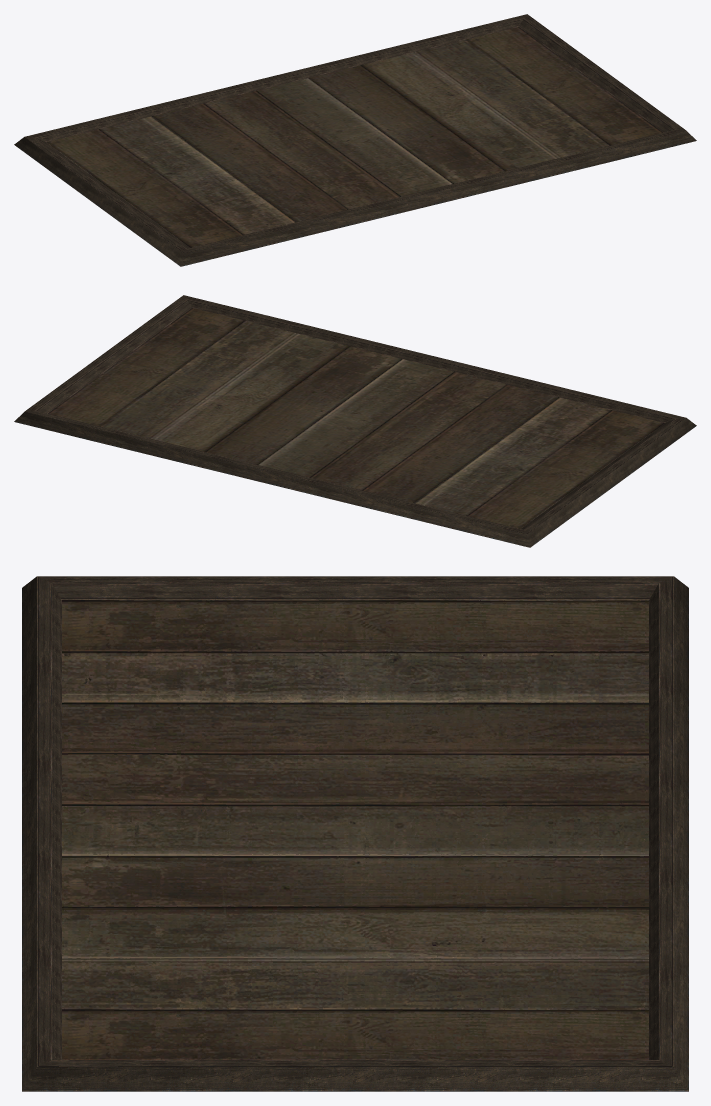
Rendered from vent01.glb.
3 views of the same model, one above another, from view 1: azimuth 30°, elevation 25°; view 2: azimuth 150°, elevation 25°; view 3: azimuth 270°, elevation 25° (orthographic). The views are drawn at different scales.
Visible parts, largest first — view 1: vent01; view 2: vent01; view 3: vent01.
Boxes of the visible parts, bbox=[...] form: vent01: bbox=[14, 14, 696, 266]; vent01: bbox=[14, 295, 696, 547]; vent01: bbox=[22, 576, 688, 1091].
Bounding box in the file's own units: 6.4 × 0.1082 × 3.58.
Materials: 2 (2 with a texture image).
